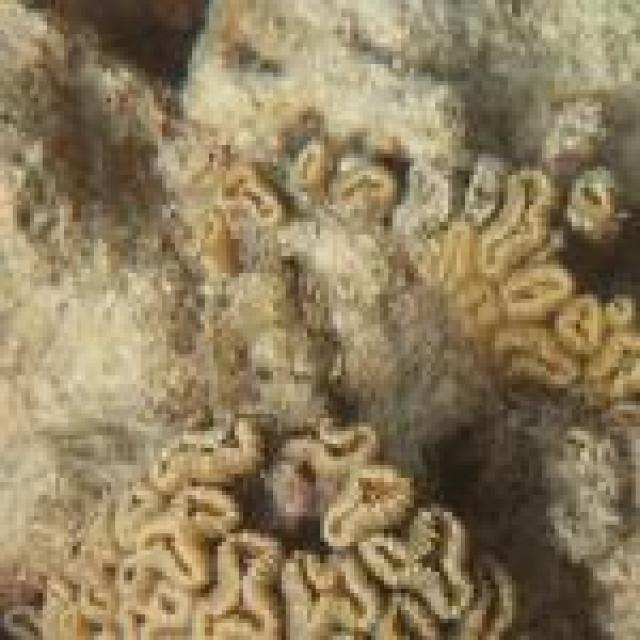Healthy Coral: (0, 403, 536, 640), (416, 108, 640, 405), (210, 110, 399, 291)
